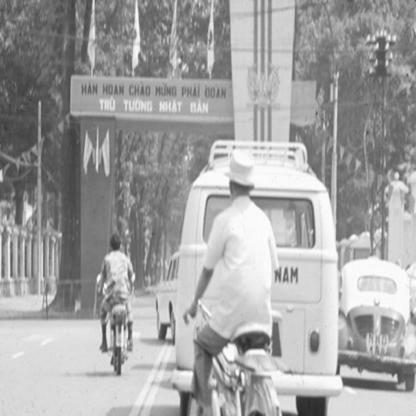car: (333, 255, 416, 394)
moto: (87, 287, 153, 391)
